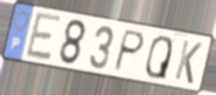3: (89, 24, 114, 70)
8: (57, 18, 87, 66)
E: (24, 10, 64, 62)
K: (172, 38, 204, 86)
P: (111, 28, 146, 73)
Q: (144, 34, 174, 82)
